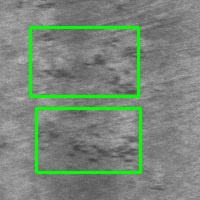rolled-in_scale: (30, 27, 138, 96), (36, 108, 140, 172)
